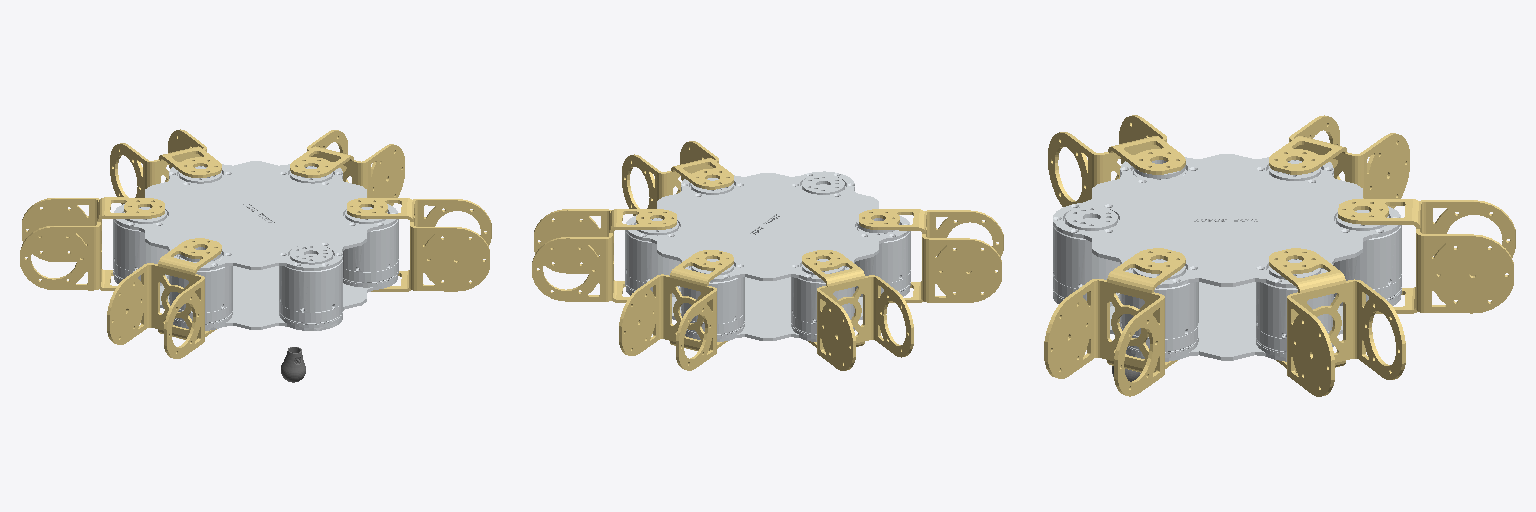
The robot description file, URDF, robot "URDF_Full_Hexapod":
<?xml version="1.0" encoding="utf-8"?>
<!-- This URDF was automatically created by SolidWorks to URDF Exporter! Originally created by [author] ([email redacted]) 
     Commit Version: 1.6.0-4-g7f85cfe  Build Version: 1.6.7995.38578
     For more information, please see http://wiki.ros.org/sw_urdf_exporter -->
<robot
  name="URDF_Full_Hexapod">
  <link
    name="base_link">
    <inertial>
      <origin
        xyz="9.6259709536084E-06 -6.03599555802636E-06 -0.0030214605278231"
        rpy="0 0 0" />
      <mass
        value="0.652718423695264" />
      <inertia
        ixx="0.00164228924294238"
        ixy="-1.28564474462014E-09"
        ixz="8.22610664375957E-10"
        iyy="0.00164233674483393"
        iyz="-1.98002919852351E-10"
        izz="0.00328367106870498" />
    </inertial>
    <visual>
      <origin
        xyz="0 0 0"
        rpy="0 0 0" />
      <geometry>
        <mesh
          filename="package://URDF_Full_Hexapod/meshes/base_link.STL" />
      </geometry>
      <material
        name="">
        <color
          rgba="0.894117647058823 0.913725490196078 0.929411764705882 1" />
      </material>
    </visual>
    <collision>
      <origin
        xyz="0 0 0"
        rpy="0 0 0" />
      <geometry>
        <mesh
          filename="package://URDF_Full_Hexapod/meshes/base_link.STL" />
      </geometry>
    </collision>
  </link>
  <link
    name="hip_link_1">
    <inertial>
      <origin
        xyz="0.0452404100795674 -0.00545991322773652 0.00128225279861081"
        rpy="0 0 0" />
      <mass
        value="0.111649772064324" />
      <inertia
        ixx="9.65057066443109E-05"
        ixy="8.90674242282626E-06"
        ixz="2.58507138960985E-06"
        iyy="0.000128432429872736"
        iyz="-2.26473362731978E-07"
        izz="0.00012501960768768" />
    </inertial>
    <visual>
      <origin
        xyz="0 0 0"
        rpy="0 0 0" />
      <geometry>
        <mesh
          filename="package://URDF_Full_Hexapod/meshes/hip_link_1.STL" />
      </geometry>
      <material
        name="">
        <color
          rgba="0.968627450980392 0.87843137254902 0.6 1" />
      </material>
    </visual>
    <collision>
      <origin
        xyz="0 0 0"
        rpy="0 0 0" />
      <geometry>
        <mesh
          filename="package://URDF_Full_Hexapod/meshes/hip_link_1.STL" />
      </geometry>
    </collision>
  </link>
  <joint
    name="hip_joint_1"
    type="revolute">
    <origin
      xyz="-1.2616E-05 -0.095255 0"
      rpy="0 0 -1.5708" />
    <parent
      link="base_link" />
    <child
      link="hip_link_1" />
    <axis
      xyz="0 0 1" />
    <limit
      lower="0"
      upper="0"
      effort="0"
      velocity="0" />
  </joint>
  <link
    name="knee_link_1">
    <inertial>
      <origin
        xyz="-0.0475302249354476 -0.0303949843623502 -0.00382639103091394"
        rpy="0 0 0" />
      <mass
        value="0.155431239013057" />
      <inertia
        ixx="0.000125689460160167"
        ixy="-8.60189768522736E-05"
        ixz="-1.49872305256315E-06"
        iyy="0.000137645360683419"
        iyz="-1.51278826167929E-06"
        izz="0.000224456017656395" />
    </inertial>
    <visual>
      <origin
        xyz="0 0 0"
        rpy="0 0 0" />
      <geometry>
        <mesh
          filename="package://URDF_Full_Hexapod/meshes/knee_link_1.STL" />
      </geometry>
      <material
        name="">
        <color
          rgba="0.898039215686275 0.917647058823529 0.929411764705882 1" />
      </material>
    </visual>
    <collision>
      <origin
        xyz="0 0 0"
        rpy="0 0 0" />
      <geometry>
        <mesh
          filename="package://URDF_Full_Hexapod/meshes/knee_link_1.STL" />
      </geometry>
    </collision>
  </link>
  <joint
    name="knee_joint_1"
    type="revolute">
    <origin
      xyz="0.078424 -0.0031746 0.0010006"
      rpy="1.5708 1.5708 0" />
    <parent
      link="hip_link_1" />
    <child
      link="knee_link_1" />
    <axis
      xyz="0 0 1" />
    <limit
      lower="0"
      upper="0"
      effort="0"
      velocity="0" />
  </joint>
  <link
    name="ankle_link_1">
    <inertial>
      <origin
        xyz="0.0767237006476303 -0.013659210334669 -0.00149577098480455"
        rpy="0 0 0" />
      <mass
        value="0.31955999801834" />
      <inertia
        ixx="0.000120289050869526"
        ixy="1.98010146951448E-05"
        ixz="-2.69503214059816E-06"
        iyy="0.000196681888150522"
        iyz="1.37145509688599E-06"
        izz="0.000177107331195337" />
    </inertial>
    <visual>
      <origin
        xyz="0 0 0"
        rpy="0 0 0" />
      <geometry>
        <mesh
          filename="package://URDF_Full_Hexapod/meshes/ankle_link_1.STL" />
      </geometry>
      <material
        name="">
        <color
          rgba="0.501960784313725 0.501960784313725 0.501960784313725 1" />
      </material>
    </visual>
    <collision>
      <origin
        xyz="0 0 0"
        rpy="0 0 0" />
      <geometry>
        <mesh
          filename="package://URDF_Full_Hexapod/meshes/ankle_link_1.STL" />
      </geometry>
    </collision>
  </link>
  <joint
    name="ankle_joint_1"
    type="revolute">
    <origin
      xyz="-0.087752 -0.081834 0"
      rpy="0 0 0" />
    <parent
      link="knee_link_1" />
    <child
      link="ankle_link_1" />
    <axis
      xyz="0 0 1" />
    <limit
      lower="0"
      upper="0"
      effort="0"
      velocity="0" />
  </joint>
  <link
    name="foot_pointer_1">
    <inertial>
      <origin
        xyz="-0.0049782363018493 0.000584199635433796 1.01521888723546E-05"
        rpy="0 0 0" />
      <mass
        value="0.00634138756461707" />
      <inertia
        ixx="3.1794072605368E-07"
        ixy="1.15940615410597E-08"
        ixz="2.00382787922864E-10"
        iyy="4.0938199625732E-07"
        iyz="-5.71299980008936E-11"
        izz="4.12726877457262E-07" />
    </inertial>
    <visual>
      <origin
        xyz="0 0 0"
        rpy="0 0 0" />
      <geometry>
        <mesh
          filename="package://URDF_Full_Hexapod/meshes/foot_pointer_1.STL" />
      </geometry>
      <material
        name="">
        <color
          rgba="0.501960784313725 0.501960784313725 0.501960784313725 1" />
      </material>
    </visual>
    <collision>
      <origin
        xyz="0 0 0"
        rpy="0 0 0" />
      <geometry>
        <mesh
          filename="package://URDF_Full_Hexapod/meshes/foot_pointer_1.STL" />
      </geometry>
    </collision>
  </link>
  <joint
    name="foot_pointer_joint_1"
    type="fixed">
    <origin
      xyz="0.18098 -0.022156 0"
      rpy="0 0 0" />
    <parent
      link="ankle_link_1" />
    <child
      link="foot_pointer_1" />
    <axis
      xyz="0 0 0" />
  </joint>
  <link
    name="end_effector_1">
    <inertial>
      <origin
        xyz="-0.0122067463278634 0.00152370640892938 6.47355637194841E-06"
        rpy="0 0 0" />
      <mass
        value="0.00616673794613409" />
      <inertia
        ixx="3.11902997781583E-07"
        ixy="1.22998576021055E-08"
        ixz="2.12679032607798E-10"
        iyy="4.0890866624375E-07"
        iyz="4.13472457938764E-11"
        izz="4.06602736445781E-07" />
    </inertial>
    <visual>
      <origin
        xyz="0 0 0"
        rpy="0 0 0" />
      <geometry>
        <mesh
          filename="package://URDF_Full_Hexapod/meshes/end_effector_1.STL" />
      </geometry>
      <material
        name="">
        <color
          rgba="0.501960784313725 0.501960784313725 0.501960784313725 1" />
      </material>
    </visual>
    <collision>
      <origin
        xyz="0 0 0"
        rpy="0 0 0" />
      <geometry>
        <mesh
          filename="package://URDF_Full_Hexapod/meshes/end_effector_1.STL" />
      </geometry>
    </collision>
  </link>
  <joint
    name="end_effector_joint_1"
    type="fixed">
    <origin
      xyz="0.0075528 -0.00094278 0"
      rpy="0 0 0" />
    <parent
      link="foot_pointer_1" />
    <child
      link="end_effector_1" />
    <axis
      xyz="0 0 0" />
  </joint>
  <link
    name="hip_link_2">
    <inertial>
      <origin
        xyz="0.0488185085747303 -0.00410063867439833 0.00163326248081042"
        rpy="0 0 0" />
      <mass
        value="0.0882011859976947" />
      <inertia
        ixx="9.38773089300775E-05"
        ixy="8.87632856357308E-06"
        ixz="2.7266876743089E-06"
        iyy="0.000124049448056631"
        iyz="-2.29027568962667E-07"
        izz="0.00012170057198104" />
    </inertial>
    <visual>
      <origin
        xyz="0 0 0"
        rpy="0 0 0" />
      <geometry>
        <mesh
          filename="package://URDF_Full_Hexapod/meshes/hip_link_2.STL" />
      </geometry>
      <material
        name="">
        <color
          rgba="0.968627450980392 0.87843137254902 0.6 1" />
      </material>
    </visual>
    <collision>
      <origin
        xyz="0 0 0"
        rpy="0 0 0" />
      <geometry>
        <mesh
          filename="package://URDF_Full_Hexapod/meshes/hip_link_2.STL" />
      </geometry>
    </collision>
  </link>
  <joint
    name="hip_joint_2"
    type="revolute">
    <origin
      xyz="0.082487 -0.047638 0"
      rpy="0 0 -0.5236" />
    <parent
      link="base_link" />
    <child
      link="hip_link_2" />
    <axis
      xyz="0 0 1" />
    <limit
      lower="0"
      upper="0"
      effort="0"
      velocity="0" />
  </joint>
  <link
    name="hip_link_3">
    <inertial>
      <origin
        xyz="0.0488185085747302 -0.00410063867439835 0.00163326248081048"
        rpy="0 0 0" />
      <mass
        value="0.0882011859976946" />
      <inertia
        ixx="9.38773089300774E-05"
        ixy="8.87632856357307E-06"
        ixz="2.72668767430882E-06"
        iyy="0.000124049448056631"
        iyz="-2.29027568962642E-07"
        izz="0.00012170057198104" />
    </inertial>
    <visual>
      <origin
        xyz="0 0 0"
        rpy="0 0 0" />
      <geometry>
        <mesh
          filename="package://URDF_Full_Hexapod/meshes/hip_link_3.STL" />
      </geometry>
      <material
        name="">
        <color
          rgba="0.968627450980392 0.87843137254902 0.6 1" />
      </material>
    </visual>
    <collision>
      <origin
        xyz="0 0 0"
        rpy="0 0 0" />
      <geometry>
        <mesh
          filename="package://URDF_Full_Hexapod/meshes/hip_link_3.STL" />
      </geometry>
    </collision>
  </link>
  <joint
    name="hip_joint_3"
    type="revolute">
    <origin
      xyz="0.082499 0.047616 0"
      rpy="0 0 0.5236" />
    <parent
      link="base_link" />
    <child
      link="hip_link_3" />
    <axis
      xyz="0 0 1" />
    <limit
      lower="0"
      upper="0"
      effort="0"
      velocity="0" />
  </joint>
  <link
    name="hip_link_4">
    <inertial>
      <origin
        xyz="0.0488185085747302 -0.00410063867439914 0.00163326248080942"
        rpy="0 0 0" />
      <mass
        value="0.0882011859976947" />
      <inertia
        ixx="9.38773089300778E-05"
        ixy="8.87632856357352E-06"
        ixz="2.72668767430888E-06"
        iyy="0.000124049448056631"
        iyz="-2.29027568962729E-07"
        izz="0.00012170057198104" />
    </inertial>
    <visual>
      <origin
        xyz="0 0 0"
        rpy="0 0 0" />
      <geometry>
        <mesh
          filename="package://URDF_Full_Hexapod/meshes/hip_link_4.STL" />
      </geometry>
      <material
        name="">
        <color
          rgba="0.968627450980392 0.87843137254902 0.6 1" />
      </material>
    </visual>
    <collision>
      <origin
        xyz="0 0 0"
        rpy="0 0 0" />
      <geometry>
        <mesh
          filename="package://URDF_Full_Hexapod/meshes/hip_link_4.STL" />
      </geometry>
    </collision>
  </link>
  <joint
    name="hip_joint_4"
    type="revolute">
    <origin
      xyz="1.2616E-05 0.095255 0"
      rpy="0 0 1.5708" />
    <parent
      link="base_link" />
    <child
      link="hip_link_4" />
    <axis
      xyz="0 0 1" />
    <limit
      lower="0"
      upper="0"
      effort="0"
      velocity="0" />
  </joint>
  <link
    name="hip_link_5">
    <inertial>
      <origin
        xyz="0.0488185085747302 -0.00410063867439901 0.00163326248081043"
        rpy="0 0 0" />
      <mass
        value="0.0882011859976947" />
      <inertia
        ixx="9.38773089300778E-05"
        ixy="8.8763285635734E-06"
        ixz="2.72668767430887E-06"
        iyy="0.000124049448056631"
        iyz="-2.290275689627E-07"
        izz="0.00012170057198104" />
    </inertial>
    <visual>
      <origin
        xyz="0 0 0"
        rpy="0 0 0" />
      <geometry>
        <mesh
          filename="package://URDF_Full_Hexapod/meshes/hip_link_5.STL" />
      </geometry>
      <material
        name="">
        <color
          rgba="0.968627450980392 0.87843137254902 0.6 1" />
      </material>
    </visual>
    <collision>
      <origin
        xyz="0 0 0"
        rpy="0 0 0" />
      <geometry>
        <mesh
          filename="package://URDF_Full_Hexapod/meshes/hip_link_5.STL" />
      </geometry>
    </collision>
  </link>
  <joint
    name="hip_joint_5"
    type="revolute">
    <origin
      xyz="-0.082487 0.047638 0"
      rpy="0 0 2.618" />
    <parent
      link="base_link" />
    <child
      link="hip_link_5" />
    <axis
      xyz="0 0 1" />
    <limit
      lower="0"
      upper="0"
      effort="0"
      velocity="0" />
  </joint>
  <link
    name="hip_link_6">
    <inertial>
      <origin
        xyz="0.0488185085747303 -0.0041006386743991 0.00163326248081034"
        rpy="0 0 0" />
      <mass
        value="0.0882011859976949" />
      <inertia
        ixx="9.38773089300778E-05"
        ixy="8.87632856357345E-06"
        ixz="2.72668767430886E-06"
        iyy="0.000124049448056631"
        iyz="-2.29027568962699E-07"
        izz="0.00012170057198104" />
    </inertial>
    <visual>
      <origin
        xyz="0 0 0"
        rpy="0 0 0" />
      <geometry>
        <mesh
          filename="package://URDF_Full_Hexapod/meshes/hip_link_6.STL" />
      </geometry>
      <material
        name="">
        <color
          rgba="0.968627450980392 0.87843137254902 0.6 1" />
      </material>
    </visual>
    <collision>
      <origin
        xyz="0 0 0"
        rpy="0 0 0" />
      <geometry>
        <mesh
          filename="package://URDF_Full_Hexapod/meshes/hip_link_6.STL" />
      </geometry>
    </collision>
  </link>
  <joint
    name="hip_joint_6"
    type="revolute">
    <origin
      xyz="-0.082499 -0.047616 0"
      rpy="0 0 -2.618" />
    <parent
      link="base_link" />
    <child
      link="hip_link_6" />
    <axis
      xyz="0 0 1" />
    <limit
      lower="0"
      upper="0"
      effort="0"
      velocity="0" />
  </joint>
</robot>

--- Render facts (derived) ---
Views: 3 orthographic renders of the robot side by side, from view 1: azimuth 30°, elevation 25°; view 2: azimuth 150°, elevation 25°; view 3: azimuth 270°, elevation 25°.
Model URDF_Full_Hexapod with 11 links and 10 joints (8 revolute, 2 fixed), rooted at base_link, posed every joint at zero.
Visible links, largest first — view 1: base_link, hip_link_2, hip_link_5, hip_link_6, hip_link_3, hip_link_4, foot_pointer_1; view 2: base_link, hip_link_6, hip_link_3, hip_link_4, hip_link_5, hip_link_2; view 3: base_link, hip_link_4, hip_link_2, hip_link_3, hip_link_5, hip_link_6.
Link boxes in pixels (x1,y1,x2,y2): base_link: (113,161,398,330); hip_link_2: (347,198,491,291); hip_link_5: (20,197,164,290); hip_link_6: (107,238,221,358); hip_link_3: (290,130,404,205); hip_link_4: (110,129,221,204); foot_pointer_1: (281,347,301,382); base_link: (625,171,910,341); hip_link_6: (859,209,1003,302); hip_link_3: (532,209,676,302); hip_link_4: (619,250,733,370); hip_link_5: (802,250,913,370); hip_link_2: (622,141,733,215); base_link: (1053,154,1401,361); hip_link_4: (1338,198,1515,313); hip_link_2: (1044,248,1185,396); hip_link_3: (1269,248,1405,396); hip_link_5: (1269,115,1409,208); hip_link_6: (1048,115,1185,206).
Size in the robot's own frame: 0.3813 by 0.3312 by 0.1369 metres.
8 mesh visuals loaded from 11 distinct referenced files (8 binary STL); not drawn: 3 (reference not matched to a file when rendering).